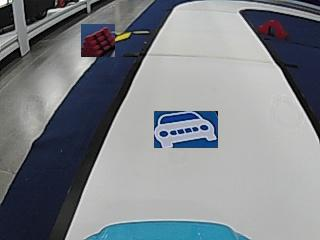bridge: (259, 19, 287, 38)
